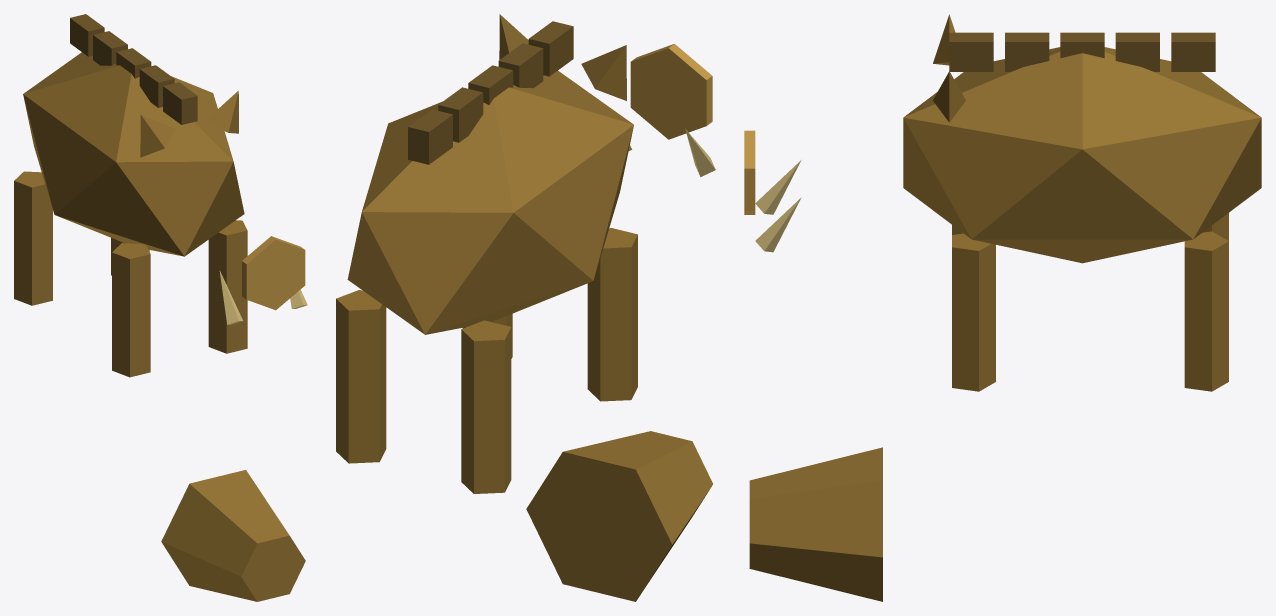
Rendered from gold_boar.glb.
The picture shows the model from 3 angles, left to right: view 1: azimuth 30°, elevation 25°; view 2: azimuth 150°, elevation 25°; view 3: azimuth 270°, elevation 25°; orthographic projection. The views are drawn at different scales.
Parts seen in each view (by area): view 1: golden bristles, golden snout.001, stubby leg, stubby leg.002, stubby leg.001, snout disc, bristle ridge, boar ear, bristle ridge.004, bristle ridge.001, bristle ridge.003, boar ear.001 (+2 smaller); view 2: golden bristles, golden snout.001, stubby leg.002, stubby leg.003, stubby leg, snout disc, bristle ridge.004, boar ear, bristle ridge, bristle ridge.003, bristle ridge.001, bristle ridge.002 (+2 smaller); view 3: golden bristles, golden snout.001, stubby leg.003, stubby leg.001, bristle ridge, bristle ridge.004, bristle ridge.001, bristle ridge.003, bristle ridge.002, snout disc, boar ear.001, tusk (+1 smaller).
Boxes of the visible parts, x1=… form: golden bristles: x1=23, y1=52, x2=244, y2=256; golden snout.001: x1=161, y1=470, x2=305, y2=601; stubby leg: x1=112, y1=243, x2=150, y2=377; stubby leg.002: x1=14, y1=171, x2=52, y2=305; stubby leg.001: x1=208, y1=220, x2=247, y2=353; snout disc: x1=242, y1=236, x2=305, y2=310; bristle ridge: x1=163, y1=82, x2=197, y2=124; boar ear: x1=140, y1=114, x2=175, y2=157; bristle ridge.004: x1=70, y1=14, x2=104, y2=56; bristle ridge.001: x1=139, y1=65, x2=174, y2=107; bristle ridge.003: x1=93, y1=31, x2=127, y2=65; boar ear.001: x1=204, y1=91, x2=238, y2=133; golden bristles: x1=347, y1=71, x2=633, y2=334; golden snout.001: x1=526, y1=431, x2=712, y2=601; stubby leg.002: x1=461, y1=320, x2=511, y2=493; stubby leg.003: x1=336, y1=290, x2=386, y2=463; stubby leg: x1=587, y1=228, x2=637, y2=401; snout disc: x1=630, y1=44, x2=712, y2=139; bristle ridge.004: x1=408, y1=109, x2=452, y2=164; boar ear: x1=581, y1=45, x2=626, y2=100; bristle ridge: x1=528, y1=21, x2=573, y2=76; bristle ridge.003: x1=438, y1=87, x2=483, y2=142; bristle ridge.001: x1=498, y1=43, x2=543, y2=88; bristle ridge.002: x1=468, y1=65, x2=513, y2=104; golden bristles: x1=903, y1=47, x2=1261, y2=263; golden snout.001: x1=749, y1=447, x2=882, y2=601; stubby leg.003: x1=1184, y1=231, x2=1228, y2=391; stubby leg.001: x1=952, y1=233, x2=995, y2=391; bristle ridge: x1=949, y1=32, x2=993, y2=71; bristle ridge.004: x1=1171, y1=32, x2=1215, y2=71; bristle ridge.001: x1=1005, y1=32, x2=1049, y2=71; bristle ridge.003: x1=1115, y1=32, x2=1159, y2=71; bristle ridge.002: x1=1060, y1=32, x2=1104, y2=58; snout disc: x1=744, y1=130, x2=755, y2=214; boar ear.001: x1=933, y1=71, x2=965, y2=122; tusk: x1=755, y1=160, x2=801, y2=214.
Size of the model in its own units: 0.1968 by 0.5456 by 0.4666.
